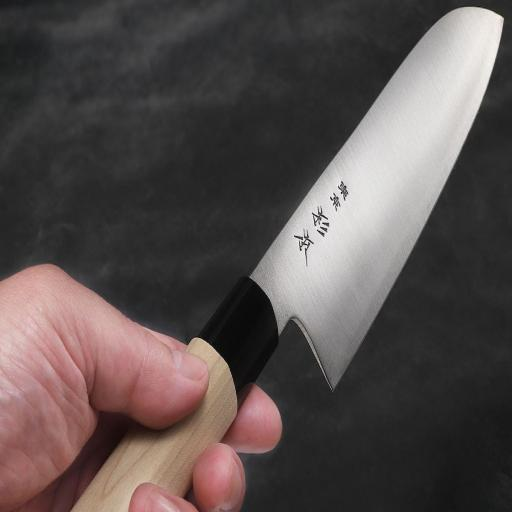knife: (67, 8, 504, 511)
